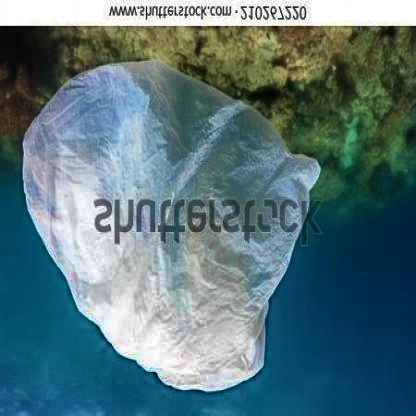pbag: (20, 57, 322, 394)
